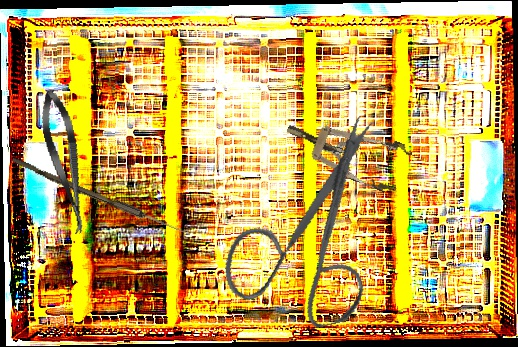Iris Scissors: (195, 113, 420, 347)
Micro Scissor: (35, 87, 95, 237)
Speculum: (278, 103, 415, 197)
Surgical Spoon: (10, 157, 192, 238)
